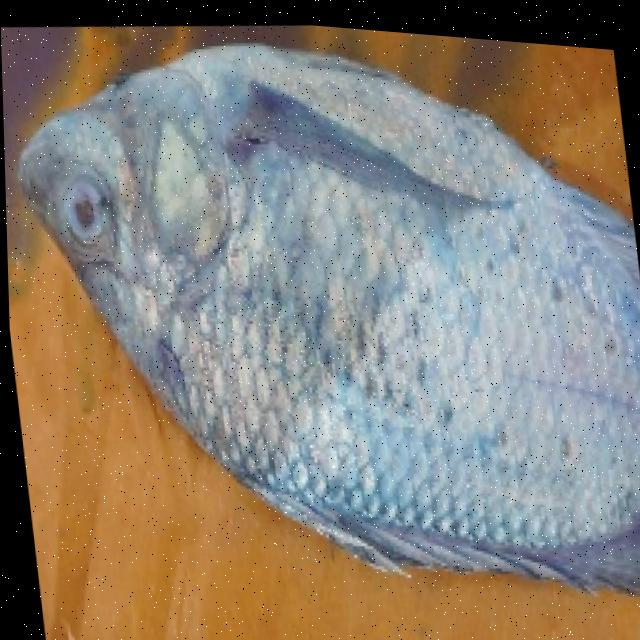Non-Fresh: (0, 12, 640, 609), (42, 157, 116, 259)
